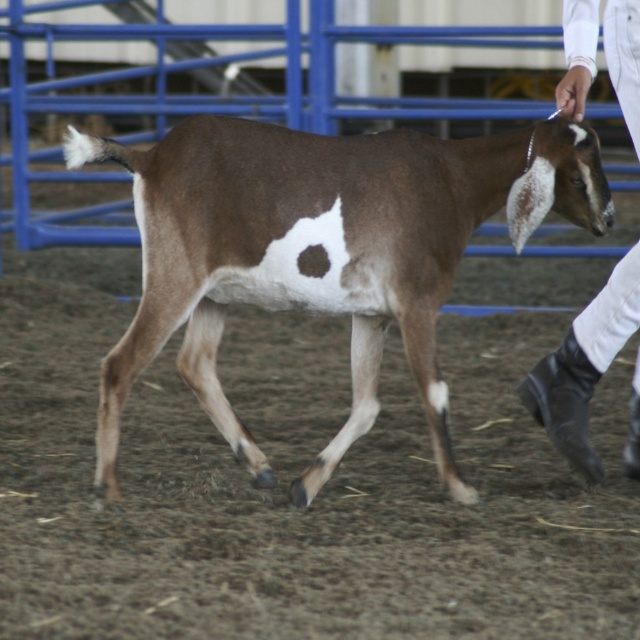Cattle: (60, 110, 616, 507)
